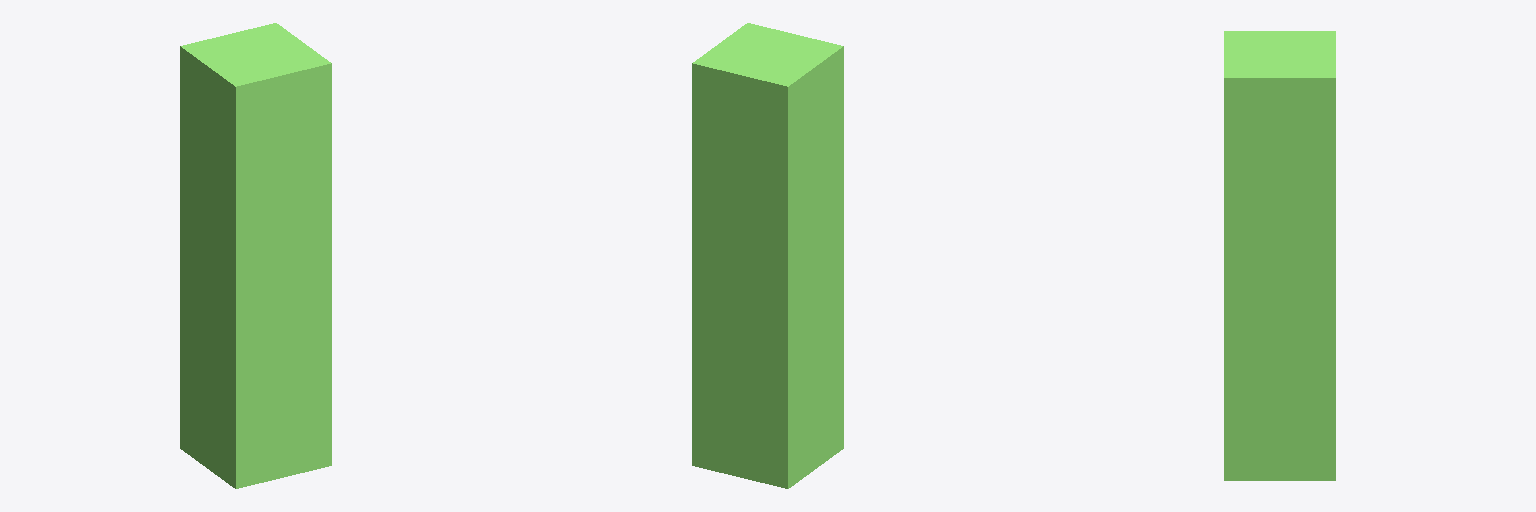
3 renders of one model, left to right at view 1: azimuth 30°, elevation 25°; view 2: azimuth 150°, elevation 25°; view 3: azimuth 270°, elevation 25°, orthographic.
Visible parts, largest first — view 1: PlumpStandardMushroom_21; view 2: PlumpStandardMushroom_21; view 3: PlumpStandardMushroom_21.
Part boxes in pixels (x1,y1,x2,y2): PlumpStandardMushroom_21: (180, 23, 331, 488); PlumpStandardMushroom_21: (692, 23, 843, 488); PlumpStandardMushroom_21: (1224, 31, 1335, 480).
Size of the model in its own units: 1 by 4 by 1.
1 materials, 1 textured.